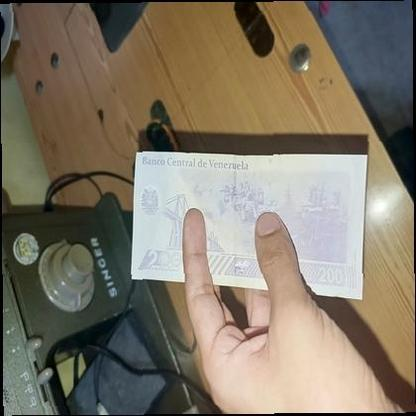two_hundred-back-vef: (129, 150, 367, 300)
